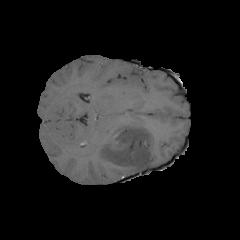glioma: (96, 110, 154, 173)
